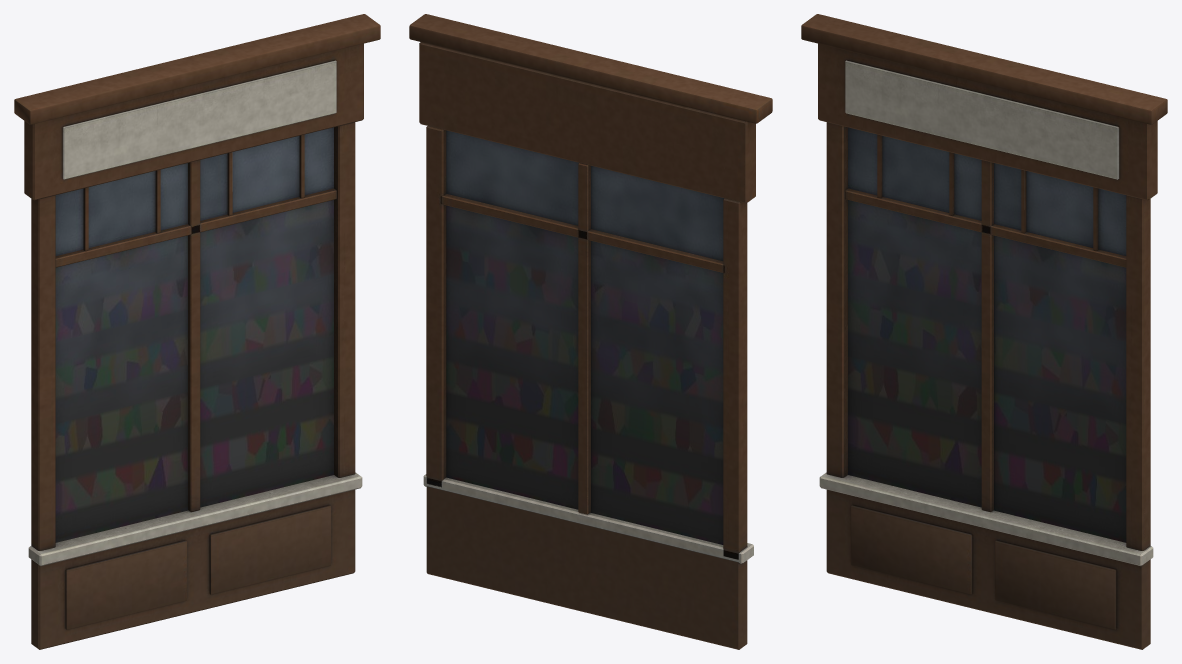
Rendered from shop_town_20_brown.glb.
The picture shows the model from 3 angles, left to right: view 1: azimuth 30°, elevation 25°; view 2: azimuth 150°, elevation 25°; view 3: azimuth 330°, elevation 25°; orthographic projection.
Parts seen in each view (by area): view 1: shop_town_20_brown; view 2: shop_town_20_brown; view 3: shop_town_20_brown.
Part boxes in pixels (<box>): shop_town_20_brown: <box>14,14,380,649</box>; shop_town_20_brown: <box>409,14,772,649</box>; shop_town_20_brown: <box>801,14,1167,649</box>.
Size of the model in its own units: 2.44 by 3.65 by 0.2.
1 material, 1 textured.
